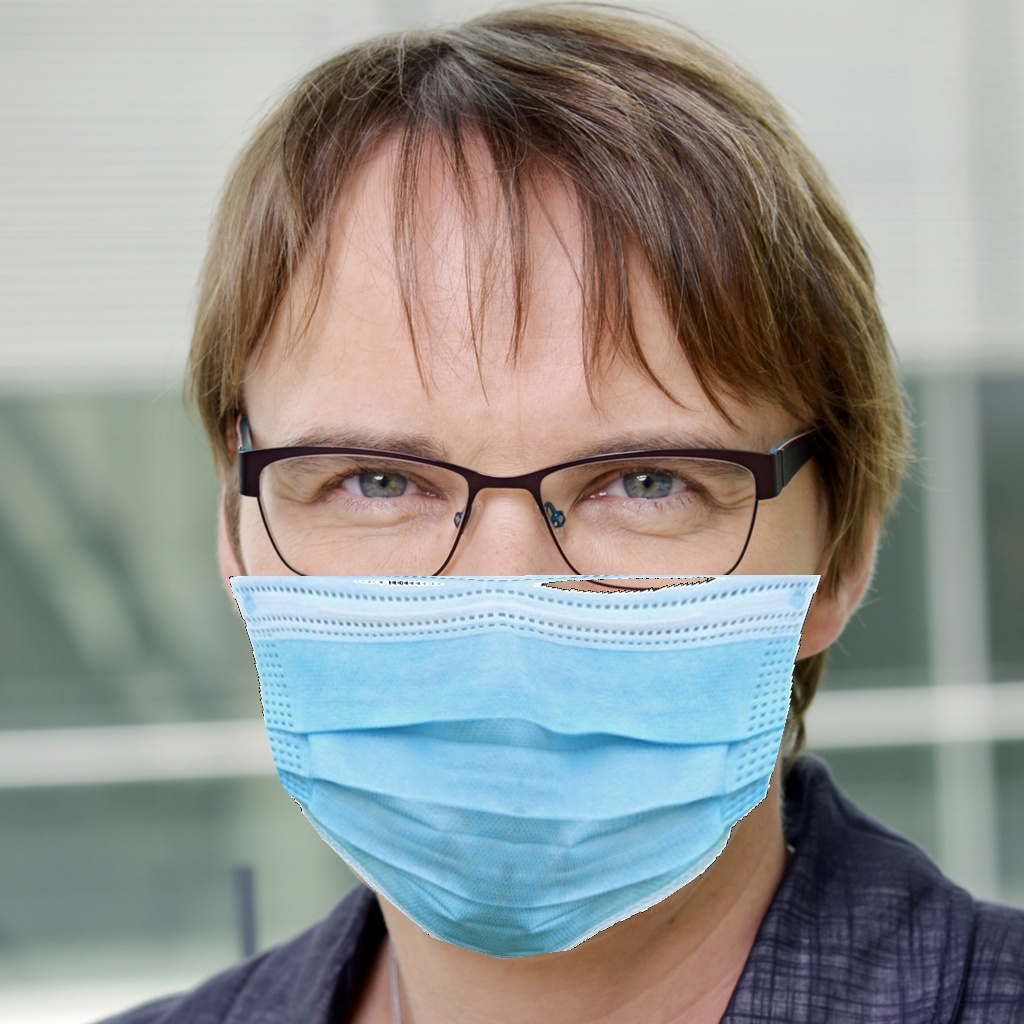Mask: (228, 383, 837, 957)
